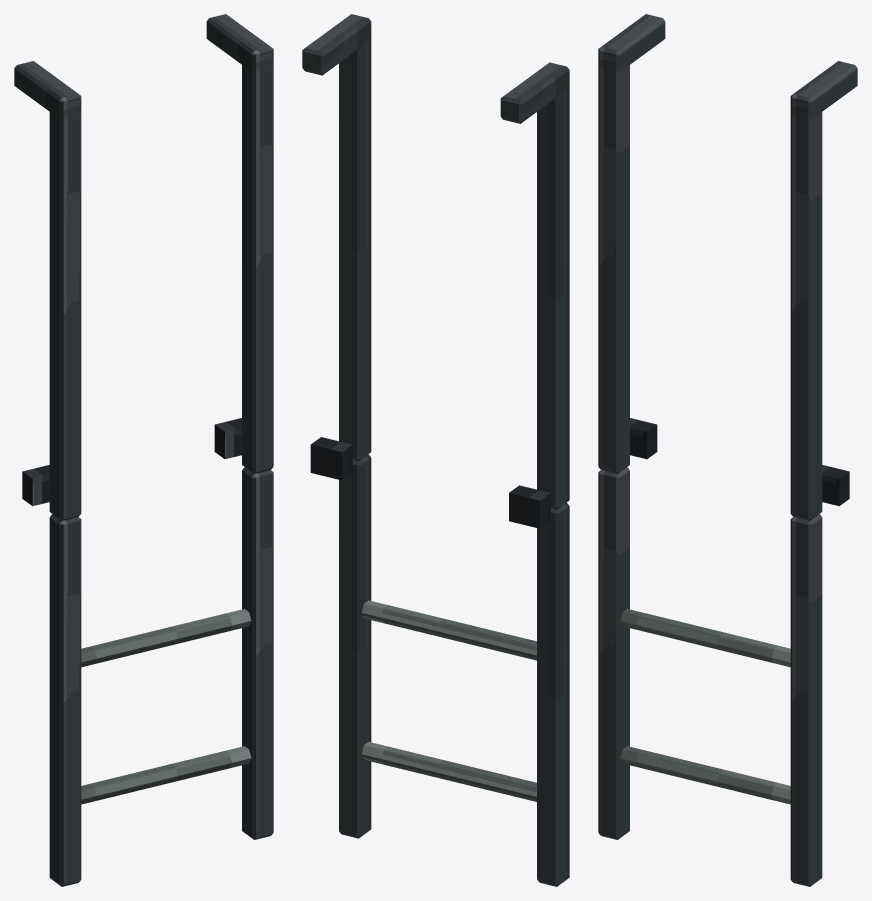
The model's file is sewer_ladder_top.glb.
3 views of the same model, side by side, from view 1: azimuth 30°, elevation 25°; view 2: azimuth 150°, elevation 25°; view 3: azimuth 330°, elevation 25° (orthographic). The views are drawn at different scales.
Visible parts, largest first — view 1: HoopUpL, HoopUpR, RailL, RailR, Rung00, Rung01, HoopTopL, HoopTopR, HoopFootL, HoopFootR; view 2: HoopUpR, HoopUpL, RailL, RailR, Rung01, Rung00, HoopTopL, HoopTopR, HoopFootR, HoopFootL; view 3: HoopUpR, HoopUpL, RailR, RailL, Rung00, Rung01, HoopTopR, HoopTopL, HoopFootR, HoopFootL.
Part boxes in pixels (x1,y1,x2,y2): HoopUpL: (49,107,81,520); HoopUpR: (242,62,273,473); RailL: (49,514,81,886); RailR: (242,467,273,839); Rung00: (81,746,251,804); Rung01: (81,609,251,667); HoopTopL: (14,61,81,118); HoopTopR: (206,14,273,71); HoopFootL: (22,465,49,506); HoopFootR: (214,418,241,459); HoopUpR: (339,34,371,461); HoopUpL: (537,83,569,509); RailL: (537,503,569,886); RailR: (339,454,371,838); Rung01: (361,600,536,660); Rung00: (361,742,536,801); HoopTopL: (500,62,569,123); HoopTopR: (302,14,371,75); HoopFootR: (310,437,352,480); HoopFootL: (509,485,550,528); HoopUpR: (790,110,822,520); HoopUpL: (598,59,629,473); RailR: (790,514,822,886); RailL: (598,467,629,839); Rung00: (620,746,790,804); Rung01: (620,609,790,667); HoopTopR: (790,61,857,118); HoopTopL: (598,14,665,71); HoopFootR: (822,465,849,506); HoopFootL: (630,418,657,459).
Size of the model in its own units: 0.51 by 1.72 by 0.19.
Materials: 2 (2 with a texture image).
